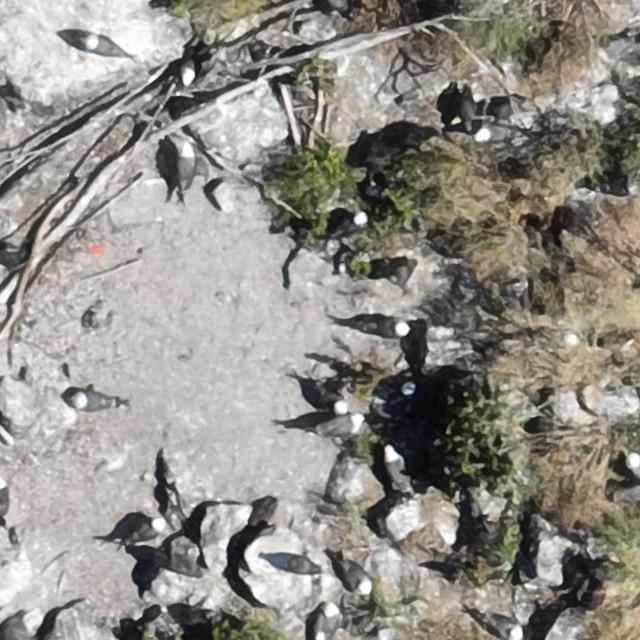umineko: (384, 445, 411, 495), (312, 414, 364, 439), (122, 518, 166, 547), (176, 52, 211, 88), (318, 382, 350, 413), (179, 138, 195, 198), (311, 602, 336, 640), (70, 392, 116, 410), (363, 318, 409, 336), (345, 565, 370, 595), (336, 213, 365, 236), (84, 35, 118, 54), (488, 617, 520, 637), (476, 126, 508, 142), (628, 453, 639, 479)
